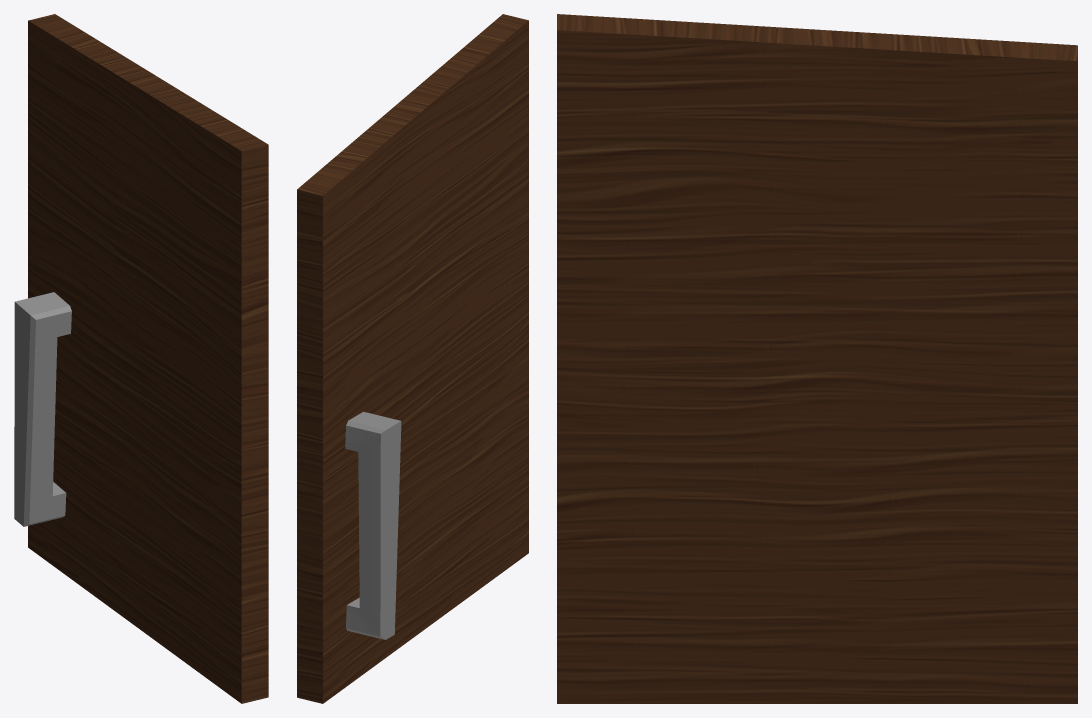
Rendered from KitchenCabinet_DoorRight.fbx.
The picture shows the model from 3 angles, left to right: view 1: azimuth 30°, elevation 25°; view 2: azimuth 150°, elevation 25°; view 3: azimuth 270°, elevation 25°; orthographic projection. The views are drawn at different scales.
Visible parts, largest first — view 1: Midnight_Antics_Kitchen_V1.006; view 2: Midnight_Antics_Kitchen_V1.006; view 3: Midnight_Antics_Kitchen_V1.006.
Part boxes in pixels (left/top/right/bottom): Midnight_Antics_Kitchen_V1.006: left=14, top=14, right=268, bottom=703; Midnight_Antics_Kitchen_V1.006: left=297, top=14, right=528, bottom=703; Midnight_Antics_Kitchen_V1.006: left=557, top=14, right=1077, bottom=703.
Size of the model in its own units: 1128 by 8972 by 6286.
